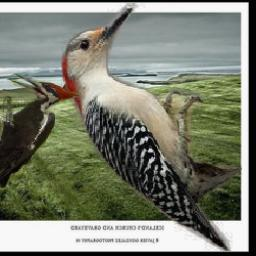Woodpecker: (60, 3, 241, 251), (0, 74, 82, 189)
